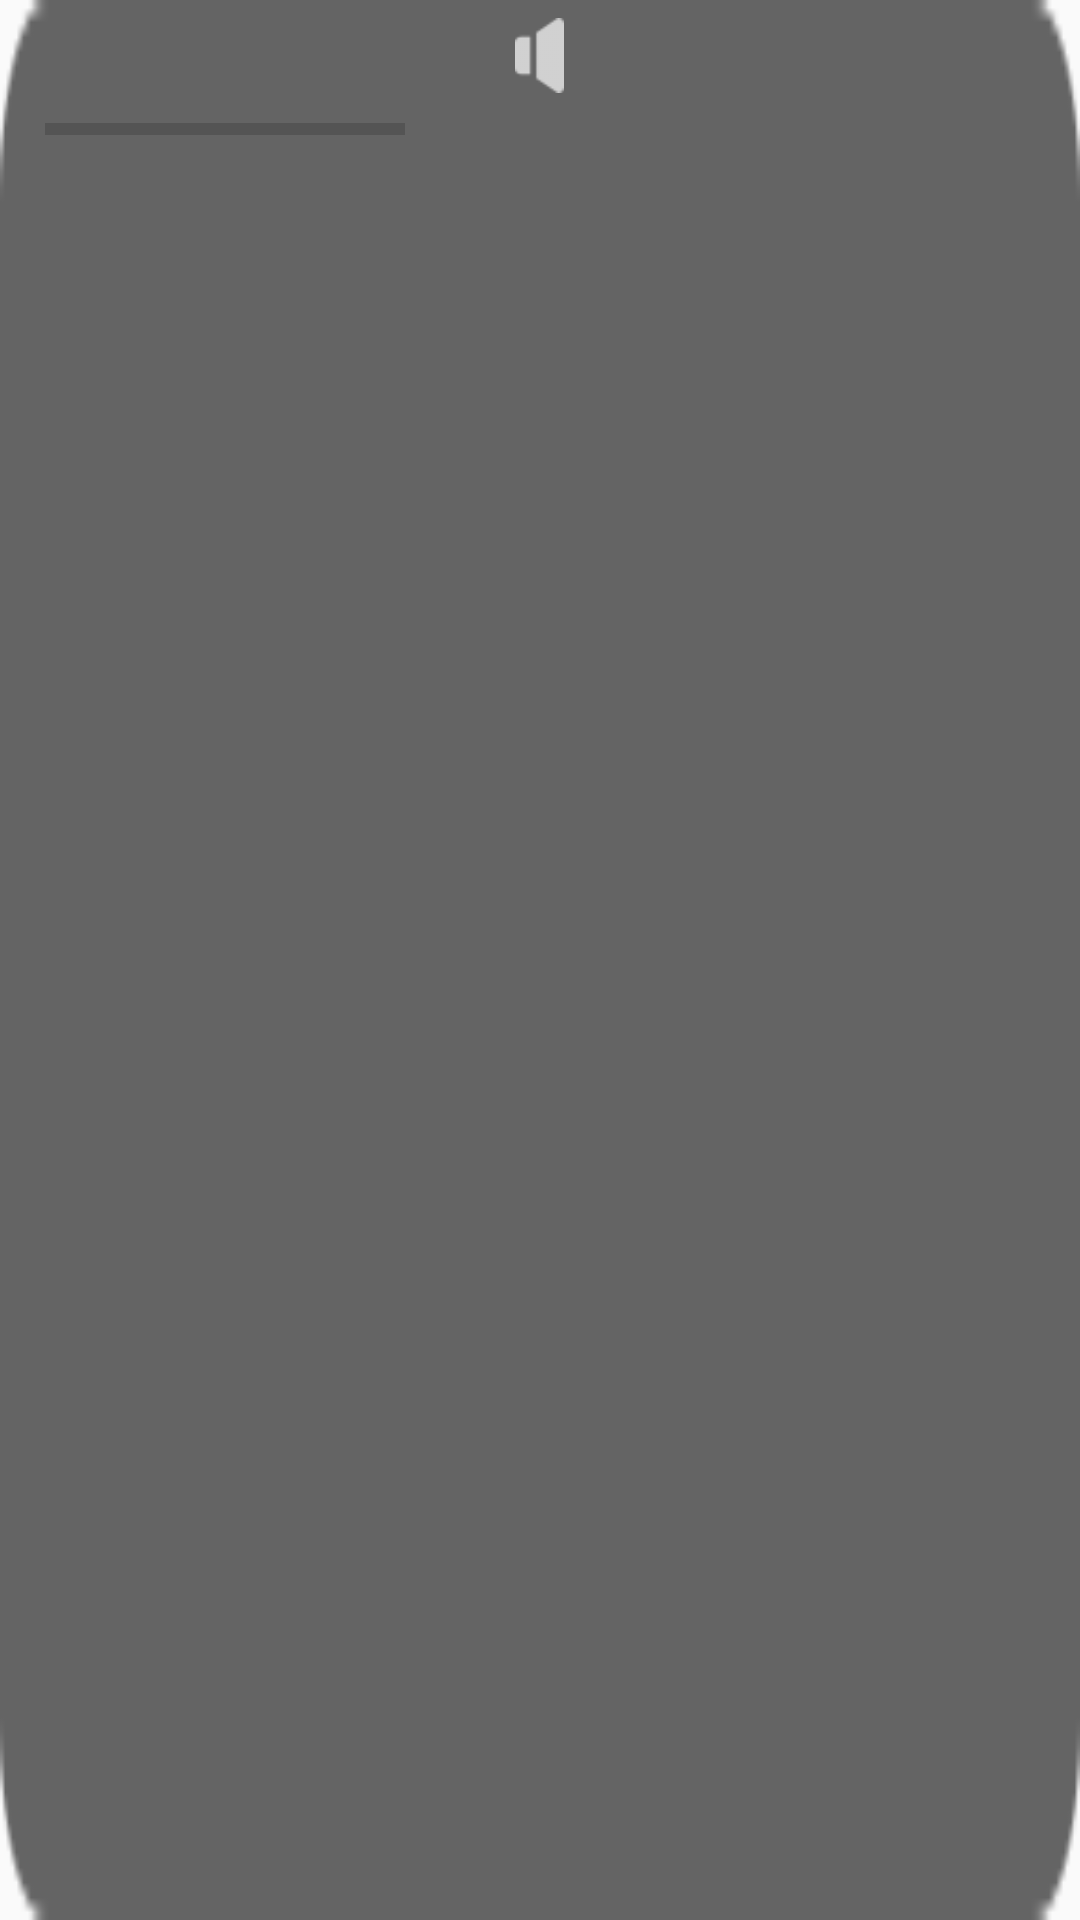

Named icons in this screenshot (1080px x 1920px) and their bounding boxes, box(x1, y1, x2, y2):
volume: box(515, 18, 564, 93)
